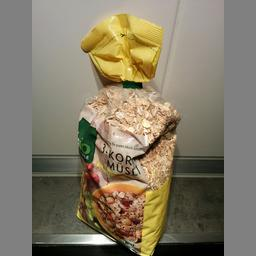cereal: (76, 80, 180, 255)
